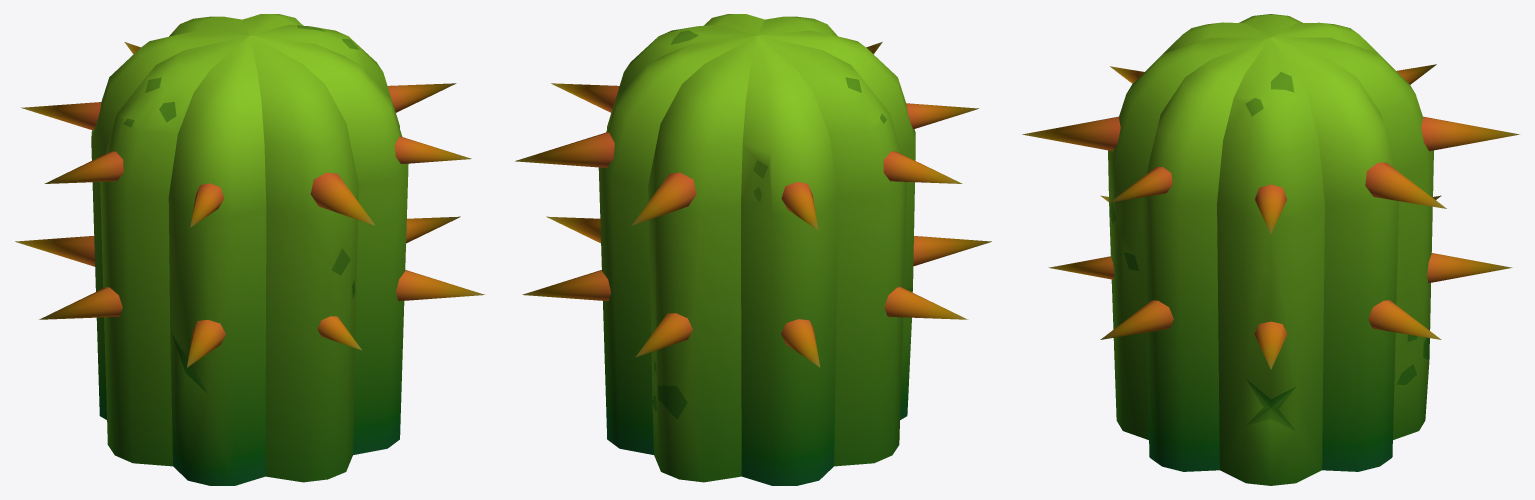
Rendered from cactus3.glb.
3 views of the same model, side by side, from view 1: azimuth 30°, elevation 25°; view 2: azimuth 150°, elevation 25°; view 3: azimuth 270°, elevation 25° (orthographic).
Visible parts, largest first — view 1: cactus3; view 2: cactus3; view 3: cactus3.
Part boxes in pixels (x1=…): cactus3: x1=15, y1=14, x2=484, y2=485; cactus3: x1=515, y1=14, x2=991, y2=485; cactus3: x1=1022, y1=14, x2=1519, y2=485.
Bounding box in the file's own units: 1.86 × 1.63 × 1.92.
1 material, 1 textured.
